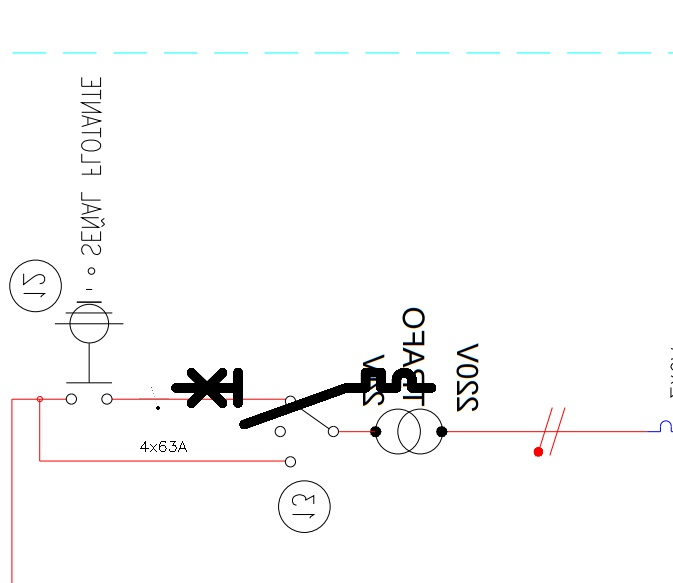interruptor_termomagnetico: (169, 366, 437, 431)
